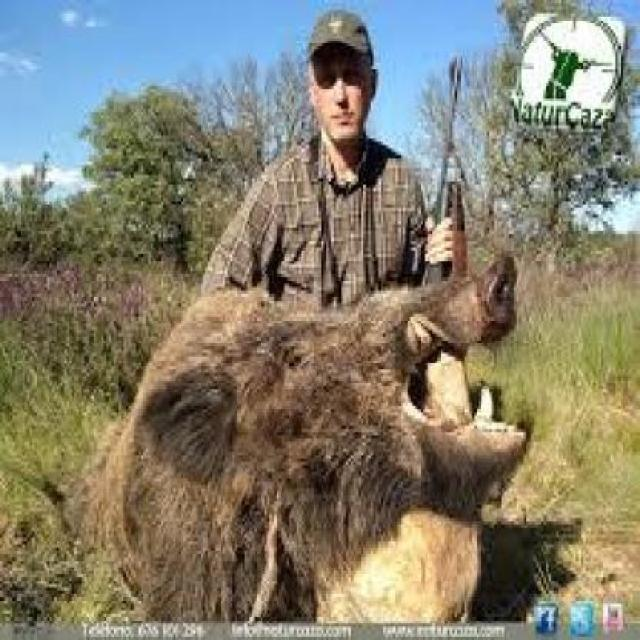wildboar: (76, 247, 533, 640)
